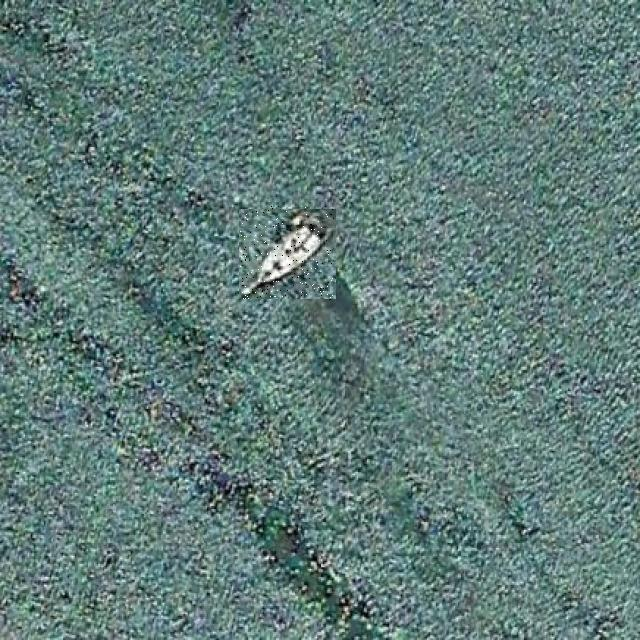boat: (240, 207, 334, 300)
